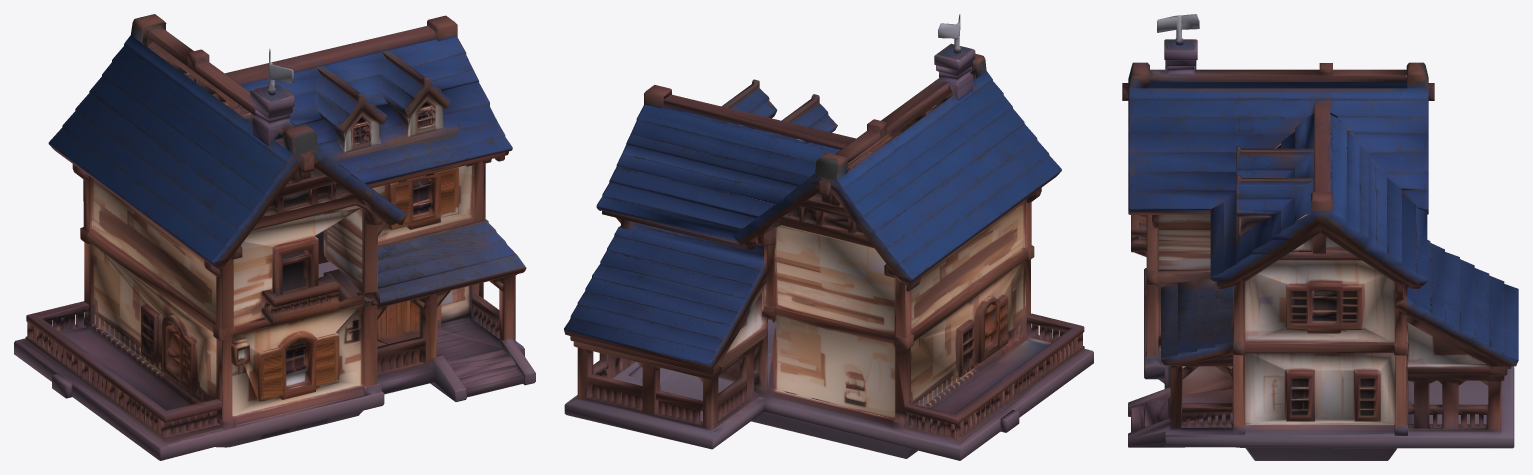
Rendered from medium_house.glb.
3 renders of one model, left to right at view 1: azimuth 30°, elevation 25°; view 2: azimuth 150°, elevation 25°; view 3: azimuth 270°, elevation 25°, orthographic. The views are drawn at different scales.
Visible parts, largest first — view 1: texture_pbr_v128; view 2: texture_pbr_v128; view 3: texture_pbr_v128.
Boxes of the visible parts, left/top/right/bottom form: texture_pbr_v128: left=14, top=14, right=535, bottom=460; texture_pbr_v128: left=564, top=14, right=1093, bottom=460; texture_pbr_v128: left=1122, top=14, right=1518, bottom=460.
Size of the model in its own units: 1.9 by 1.75 by 1.8.
Materials: 1 (1 with a texture image).
